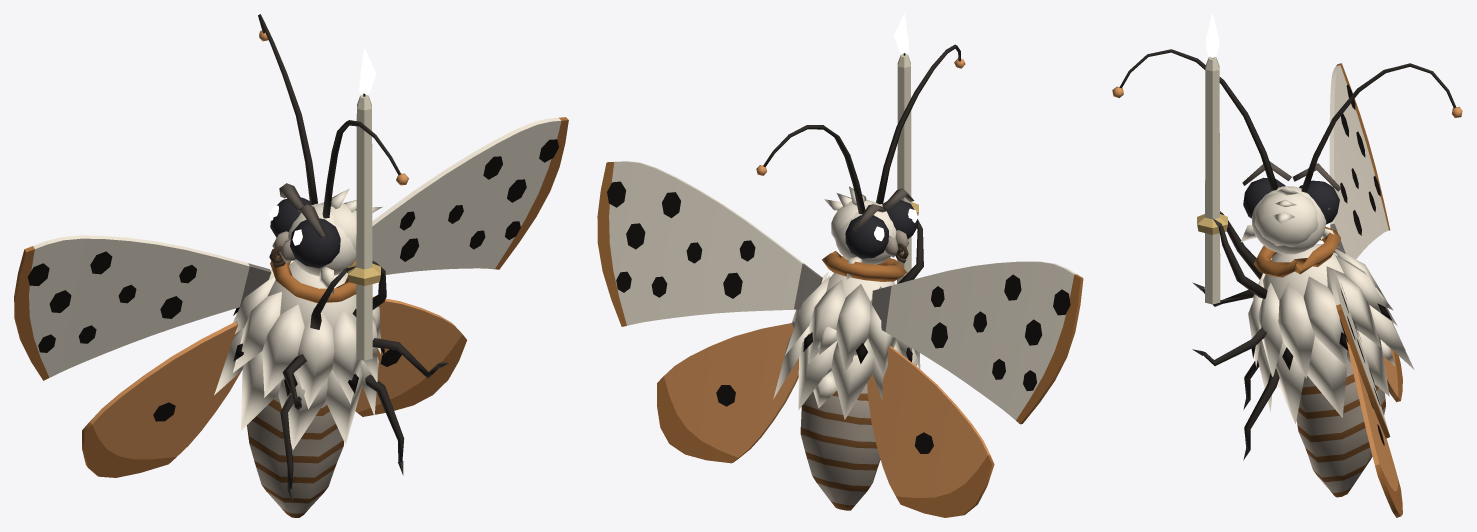
File: moth-link.glb
3 views of the same model, side by side, from view 1: azimuth 30°, elevation 25°; view 2: azimuth 150°, elevation 25°; view 3: azimuth 270°, elevation 25° (orthographic). The views are drawn at different scales.
Parts seen in each view (by area): view 1: beat_wing_1, body, beat_wing_0, pulse_abdomen, turn_head, blink_eye_l, sway_feeler_r, sway_feeler_l, blink_eye_r; view 2: beat_wing_0, beat_wing_1, body, pulse_abdomen, turn_head, blink_eye_r, sway_feeler_l, sway_feeler_r, blink_eye_l; view 3: body, beat_wing_1, pulse_abdomen, turn_head, beat_wing_0, sway_feeler_l, sway_feeler_r, blink_eye_r, blink_eye_l, flick_flame.
Boxes of the visible parts, left/top/right/bottom form: beat_wing_1: left=14, top=235, right=271, bottom=477; body: left=214, top=93, right=448, bottom=501; beat_wing_0: left=355, top=117, right=568, bottom=416; pulse_abdomen: left=247, top=395, right=343, bottom=517; turn_head: left=269, top=183, right=382, bottom=294; blink_eye_l: left=290, top=218, right=340, bottom=268; sway_feeler_r: left=258, top=14, right=317, bottom=204; sway_feeler_l: left=322, top=120, right=408, bottom=218; blink_eye_r: left=269, top=197, right=313, bottom=237; beat_wing_0: left=597, top=161, right=822, bottom=463; beat_wing_1: left=867, top=261, right=1083, bottom=517; body: left=773, top=53, right=923, bottom=419; pulse_abdomen: left=800, top=370, right=880, bottom=510; turn_head: left=824, top=186, right=914, bottom=279; blink_eye_r: left=845, top=215, right=888, bottom=258; sway_feeler_l: left=876, top=44, right=965, bottom=204; sway_feeler_r: left=756, top=125, right=865, bottom=214; blink_eye_l: left=882, top=200, right=918, bottom=238; body: left=1192, top=57, right=1414, bottom=460; beat_wing_1: left=1329, top=63, right=1402, bottom=402; pulse_abdomen: left=1296, top=361, right=1385, bottom=497; turn_head: left=1241, top=161, right=1341, bottom=254; beat_wing_0: left=1329, top=269, right=1402, bottom=517; sway_feeler_l: left=1112, top=49, right=1277, bottom=190; sway_feeler_r: left=1301, top=63, right=1462, bottom=192; blink_eye_r: left=1299, top=180, right=1339, bottom=224; blink_eye_l: left=1243, top=177, right=1285, bottom=218; flick_flame: left=1205, top=14, right=1219, bottom=57.
Bounding box in the file's own units: 0.8708 × 0.7876 × 0.5194.
